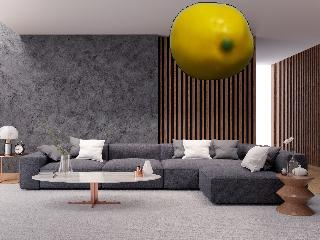lemon: (166, 0, 256, 83)
